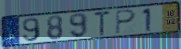1: (141, 7, 152, 33)
8: (46, 14, 65, 41)
9: (68, 12, 90, 40), (21, 17, 42, 43)
P: (115, 9, 137, 35)
T: (93, 10, 112, 37)
